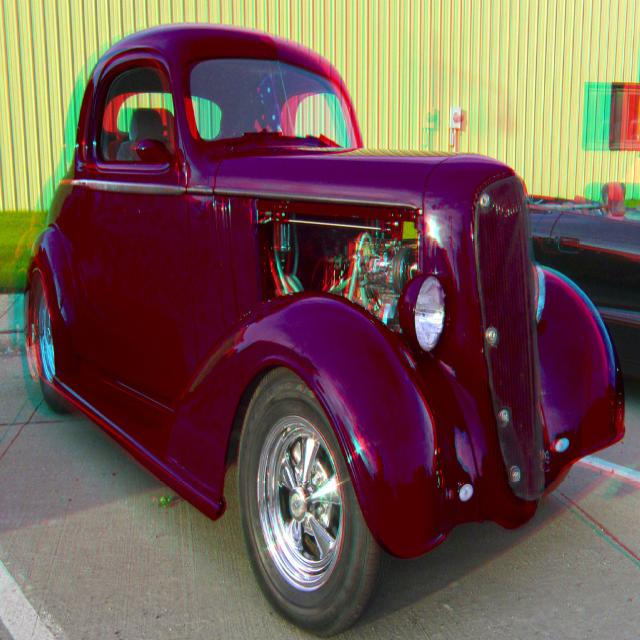car: (30, 60, 610, 593)
